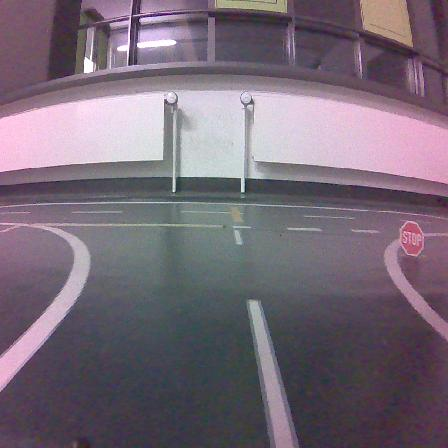STOP: (400, 221, 423, 256)
